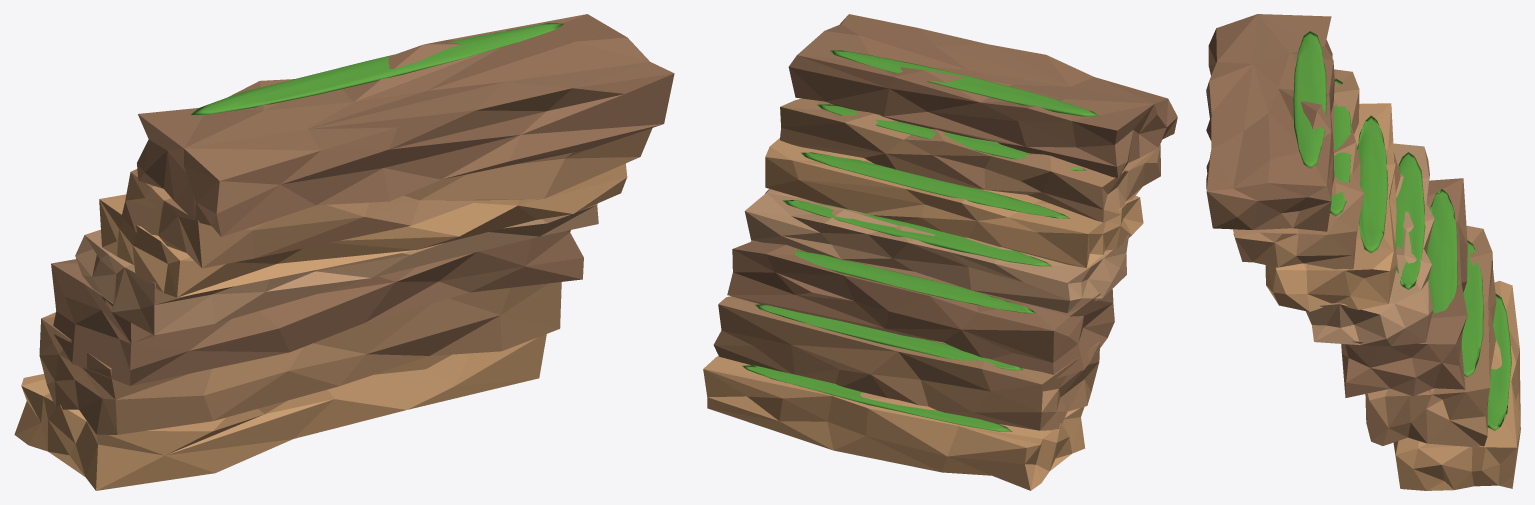
File: terrain_cliff.glb
The picture shows the model from 3 angles, left to right: view 1: azimuth 30°, elevation 25°; view 2: azimuth 150°, elevation 25°; view 3: azimuth 270°, elevation 25°; orthographic projection. The views are drawn at different scales.
Visible parts, largest first — view 1: Cliff.006, Cliff.001, Cliff.002, Cliff, Cliff.005, Cliff.004, Cliff.003, Cube.006; view 2: Cliff.006, Cliff.002, Cliff.001, Cliff, Cliff.005, Cliff.004, Cliff.003, Cube.004, Cube.002, Cube.006, Cube.003, Cube.001 (+2 smaller); view 3: Cliff.006, Cliff.001, Cliff.002, Cliff.004, Cliff, Cliff.003, Cliff.005, Cube.004, Cube.006, Cube.002, Cube.003, Cube.001 (+2 smaller).
Part boxes in pixels (box(x1,y1,x2,y2)): Cliff.006: box(137, 14, 674, 236); Cliff.001: box(39, 282, 561, 434); Cliff.002: box(51, 230, 583, 385); Cliff: box(14, 334, 546, 490); Cliff.005: box(121, 128, 652, 268); Cliff.004: box(99, 163, 627, 297); Cliff.003: box(75, 203, 598, 335); Cube.006: box(191, 23, 563, 114); Cliff.006: box(788, 14, 1177, 177); Cliff.002: box(727, 240, 1114, 378); Cliff.001: box(713, 296, 1099, 430); Cliff: box(703, 356, 1085, 490); Cliff.005: box(780, 98, 1160, 222); Cliff.004: box(765, 138, 1143, 267); Cliff.003: box(744, 189, 1128, 312); Cube.004: box(800, 152, 1070, 218); Cube.002: box(795, 250, 1036, 313); Cube.006: box(830, 50, 1098, 116); Cube.003: box(782, 200, 1051, 266); Cube.001: box(755, 304, 1023, 370); Cliff.006: box(1206, 14, 1334, 231); Cliff.001: box(1365, 225, 1496, 447); Cliff.002: box(1341, 178, 1467, 397); Cliff.004: box(1265, 103, 1400, 311); Cliff: box(1393, 280, 1520, 490); Cliff.003: box(1306, 143, 1434, 346); Cliff.005: box(1233, 69, 1364, 269); Cube.004: box(1357, 115, 1388, 253); Cube.006: box(1293, 31, 1326, 168); Cube.002: box(1426, 189, 1457, 313); Cube.003: box(1395, 152, 1425, 289); Cube.001: box(1461, 240, 1483, 377).
Bounding box in the file's own units: 10.55 × 9.15 × 8.07.
